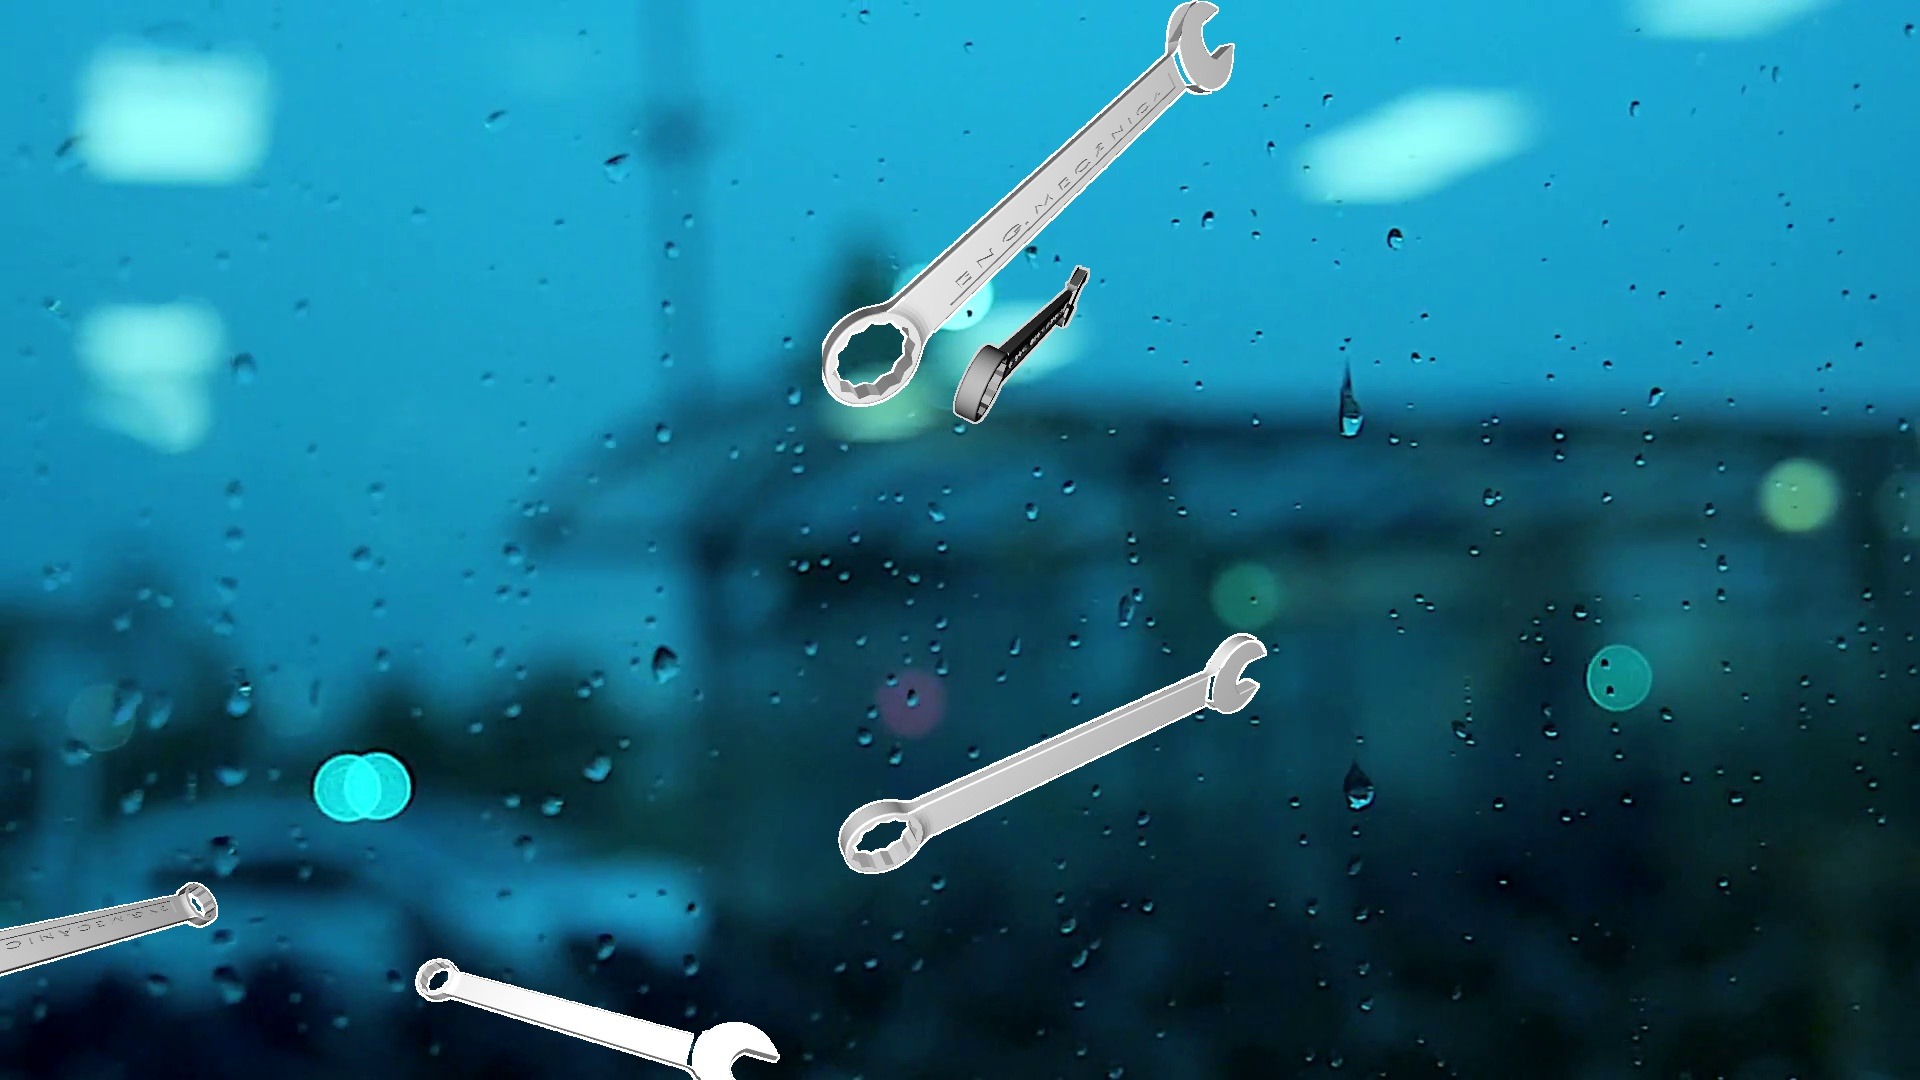Mixed Key: (822, 0, 1234, 406), (837, 633, 1266, 873), (415, 957, 779, 1079), (953, 265, 1089, 423), (0, 882, 218, 976)
